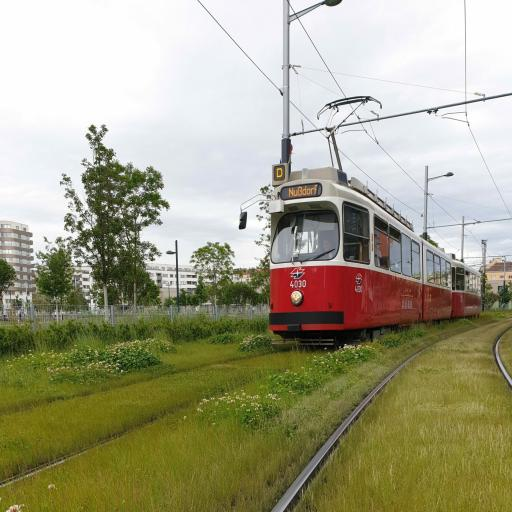E2-Tram: (269, 163, 487, 358)
